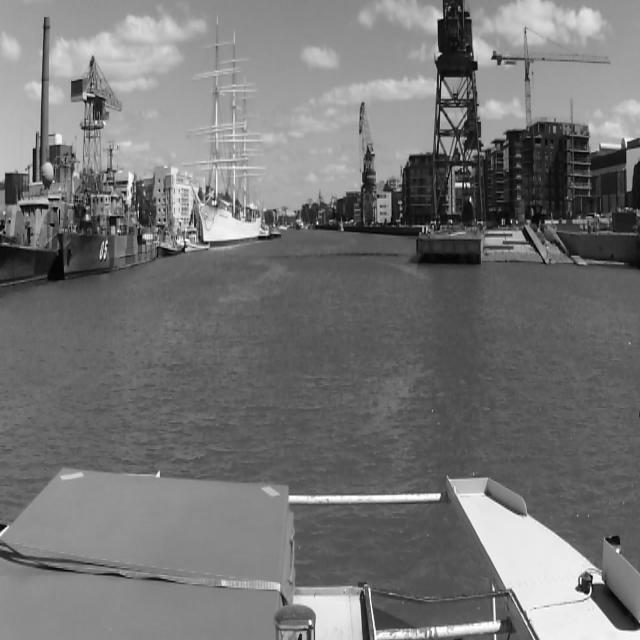ship: (192, 13, 260, 249), (55, 140, 159, 278), (0, 164, 54, 284), (161, 230, 185, 258), (272, 228, 282, 240), (296, 220, 304, 232)
